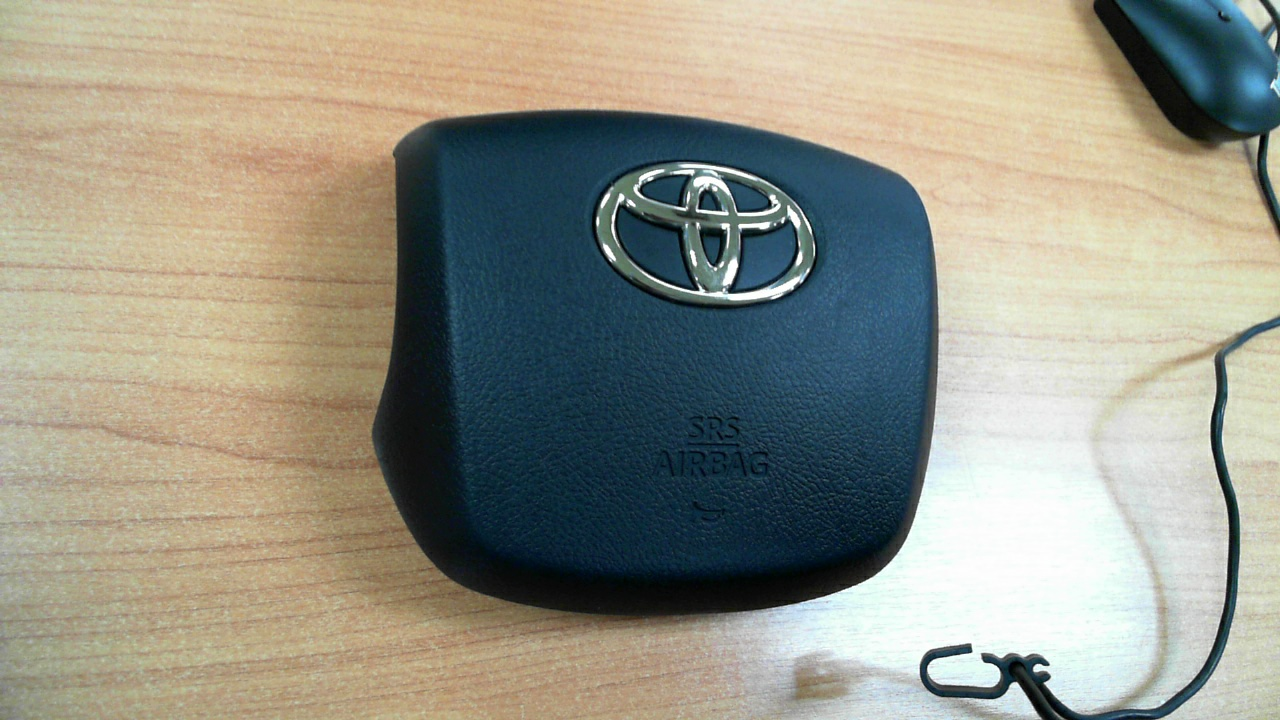Airbag: (335, 93, 964, 626)
